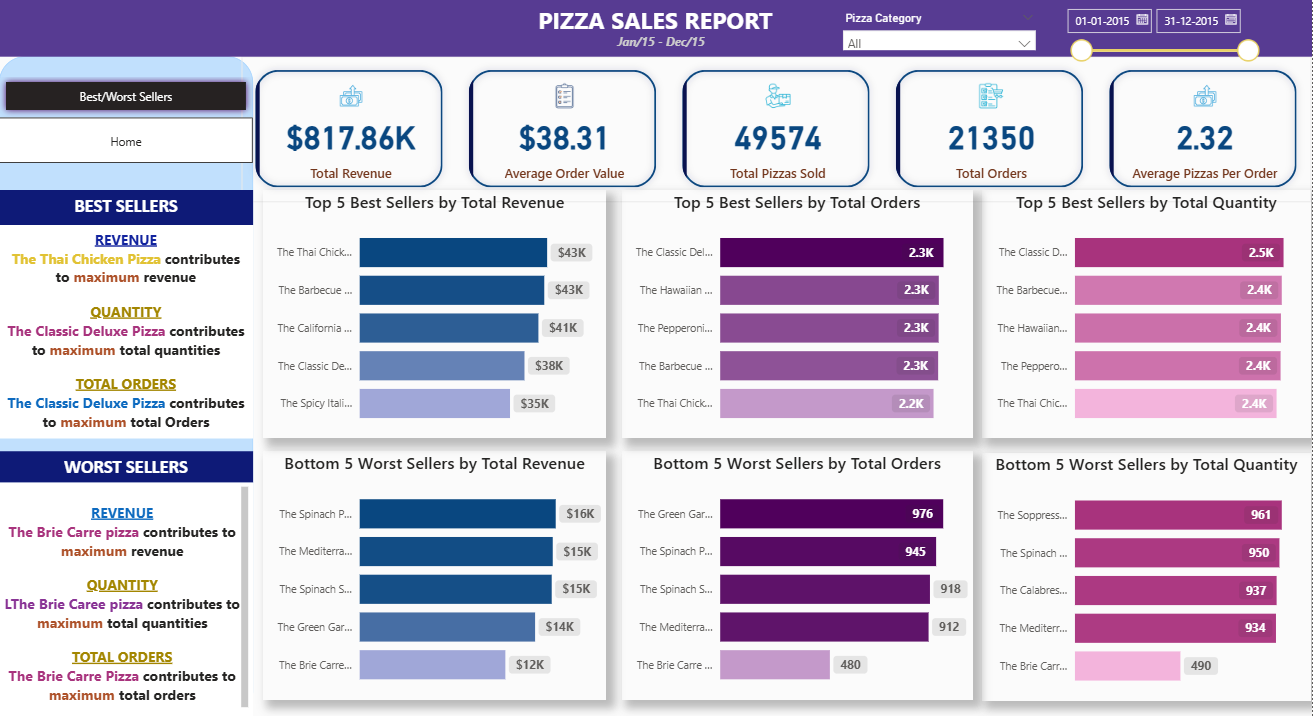

The page's visual inventory and layout, read from the dashboard file:
{"tool":"powerbi","page":{"name":"Best/Worst Sellers","canvas":[1500,820],"ordinal":1},"visuals":[{"type":"textbox","box":[0,64.3,290,755.7],"z":0},{"type":"cardVisual","fields":{"Data":["_Measures.Total_revenue","_Measures.Average_Order_Value","_Measures.Total_pizzas_sold","_Measures.Total_orders","_Measures.Average_pizzas_per_order"]},"box":[277.5,64.6,1222.9,166.3],"z":1000},{"type":"textbox","box":[0,0,1500.4,64.6],"z":2000},{"type":"textbox","box":[581.2,33,350.4,31.6],"z":3000},{"type":"textbox","box":[0,217.1,290,40],"z":7000},{"type":"textbox","box":[0,257.1,290,244.3],"z":10000},{"type":"textbox","box":[0,515.7,290,35.7],"z":11000},{"type":"textbox","box":[0,551.4,290,268.6],"z":12000},{"type":"slicer","fields":{"Values":["pizza_sales.pizza_category"]},"box":[954.3,8.6,240,48.6],"z":13000},{"type":"slicer","fields":{"Values":["pizza_sales.order_date"]},"box":[1208.6,0,240,85.7],"z":14000},{"type":"clusteredBarChart","title":"Top 5 Best Sellers by Total Revenue","fields":{"Category":["pizza_sales.pizza_name"],"Y":["_Measures.Total_revenue"]},"box":[301.4,217.1,392.9,284.3],"z":14001},{"type":"clusteredBarChart","title":"Bottom 5 Worst Sellers by Total Revenue","fields":{"Category":["pizza_sales.pizza_name"],"Y":["_Measures.Total_revenue"]},"box":[301.4,515.7,392.9,284.3],"z":14002},{"type":"clusteredBarChart","title":"Top 5 Best Sellers by Total Orders","fields":{"Category":["pizza_sales.pizza_name"],"Y":["_Measures.Total_orders"]},"box":[711.4,217.1,401.4,284.3],"z":14003},{"type":"clusteredBarChart","title":"Bottom 5 Worst Sellers by Total Orders","fields":{"Category":["pizza_sales.pizza_name"],"Y":["_Measures.Total_orders"]},"box":[711.4,515.7,401.4,284.3],"z":14004},{"type":"clusteredBarChart","title":"Top 5 Best Sellers by Total Quantity","fields":{"Category":["pizza_sales.pizza_name"],"Y":["_Measures.Total_pizzas_sold"]},"box":[1122.9,217.1,377.1,284.3],"z":14005},{"type":"clusteredBarChart","title":"Bottom 5 Worst Sellers by Total Quantity","fields":{"Category":["pizza_sales.pizza_name"],"Y":["_Measures.Total_pizzas_sold"]},"box":[1122.9,517.1,377.1,284.3],"z":14006},{"type":"pageNavigator","box":[0,85.7,290,48.6],"z":14007},{"type":"pageNavigator","box":[0,134.3,290,52.9],"z":14008}]}

Visuals, with their boxes in screenshot pixels (x1, y1, x2, y2), scaled from the page's 1500x820 canvas onto the 1313x716 screenshot:
textbox: (0, 56, 254, 715)
cardVisual - _Measures.Total_revenue x _Measures.Average_Order_Value: (243, 56, 1312, 202)
textbox: (0, 0, 1312, 56)
textbox: (509, 29, 815, 56)
textbox: (0, 190, 254, 224)
textbox: (0, 224, 254, 438)
textbox: (0, 450, 254, 481)
textbox: (0, 481, 254, 715)
slicer - pizza_sales.pizza_category: (835, 8, 1045, 50)
slicer - pizza_sales.order_date: (1058, 0, 1268, 75)
"Top 5 Best Sellers by Total Revenue" clusteredBarChart: (264, 190, 608, 438)
"Bottom 5 Worst Sellers by Total Revenue" clusteredBarChart: (264, 450, 608, 699)
"Top 5 Best Sellers by Total Orders" clusteredBarChart: (623, 190, 974, 438)
"Bottom 5 Worst Sellers by Total Orders" clusteredBarChart: (623, 450, 974, 699)
"Top 5 Best Sellers by Total Quantity" clusteredBarChart: (983, 190, 1312, 438)
"Bottom 5 Worst Sellers by Total Quantity" clusteredBarChart: (983, 452, 1312, 700)
pageNavigator: (0, 75, 254, 117)
pageNavigator: (0, 117, 254, 163)
